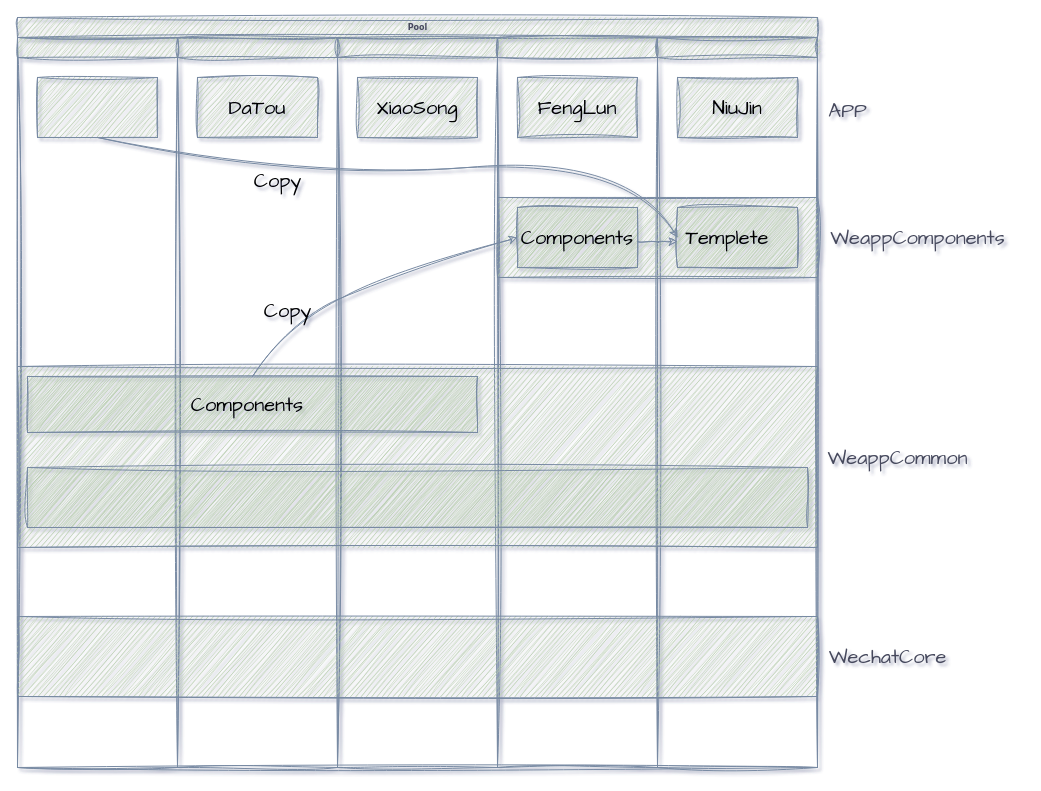
The diagram is 1041 pixels wide and 791 high, and some of its shapes have lost their labels. Each missing label, with the centre of its shape:
Bff: pixel 417 656
FengTang: pixel 97 107
Services, Hooks: pixel 417 497
